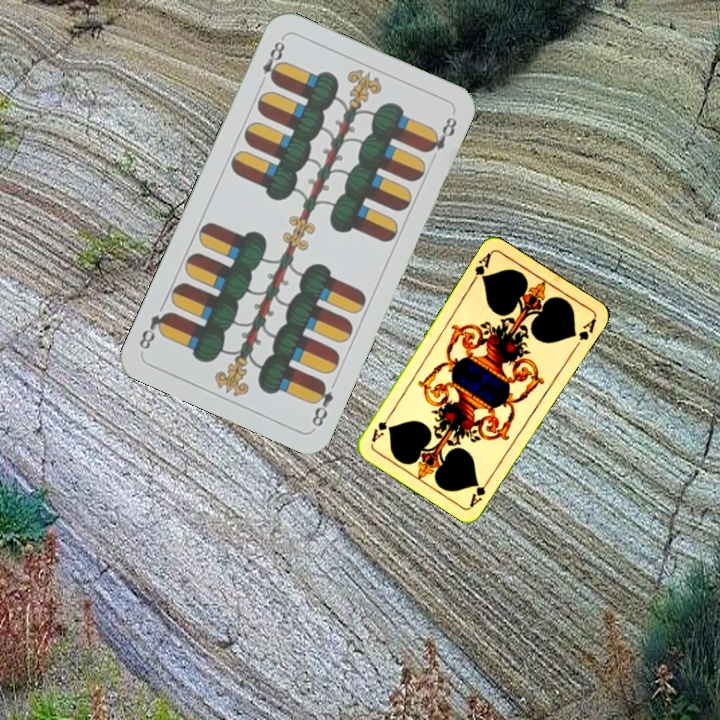E8: (255, 34, 288, 89), (307, 376, 336, 430)
GA: (466, 473, 494, 509), (468, 248, 494, 286)
